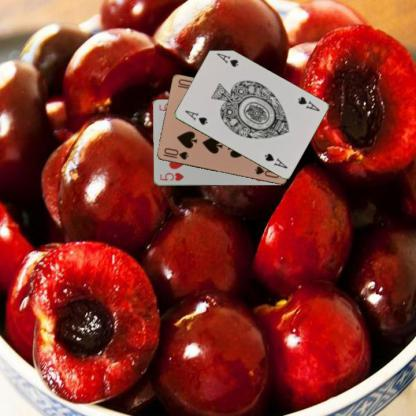10s: (160, 146, 190, 161)
5h: (157, 170, 185, 182)
As: (182, 107, 209, 126), (294, 94, 320, 113)
